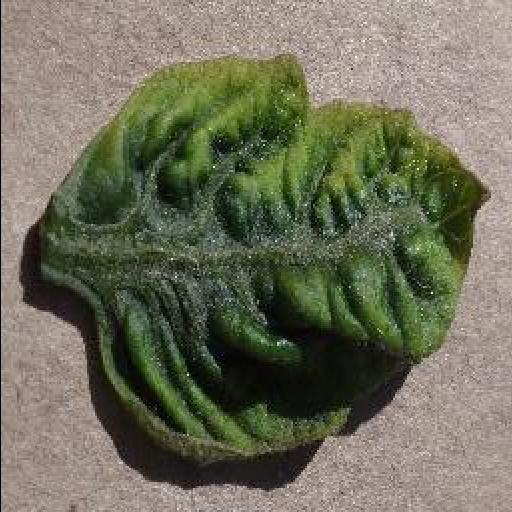disease_tomato: (32, 52, 492, 460)
